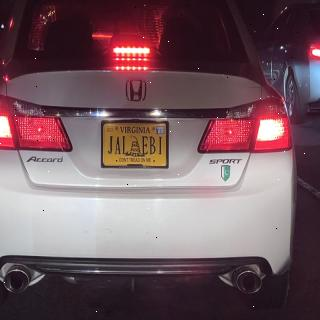license: (102, 121, 170, 169)
